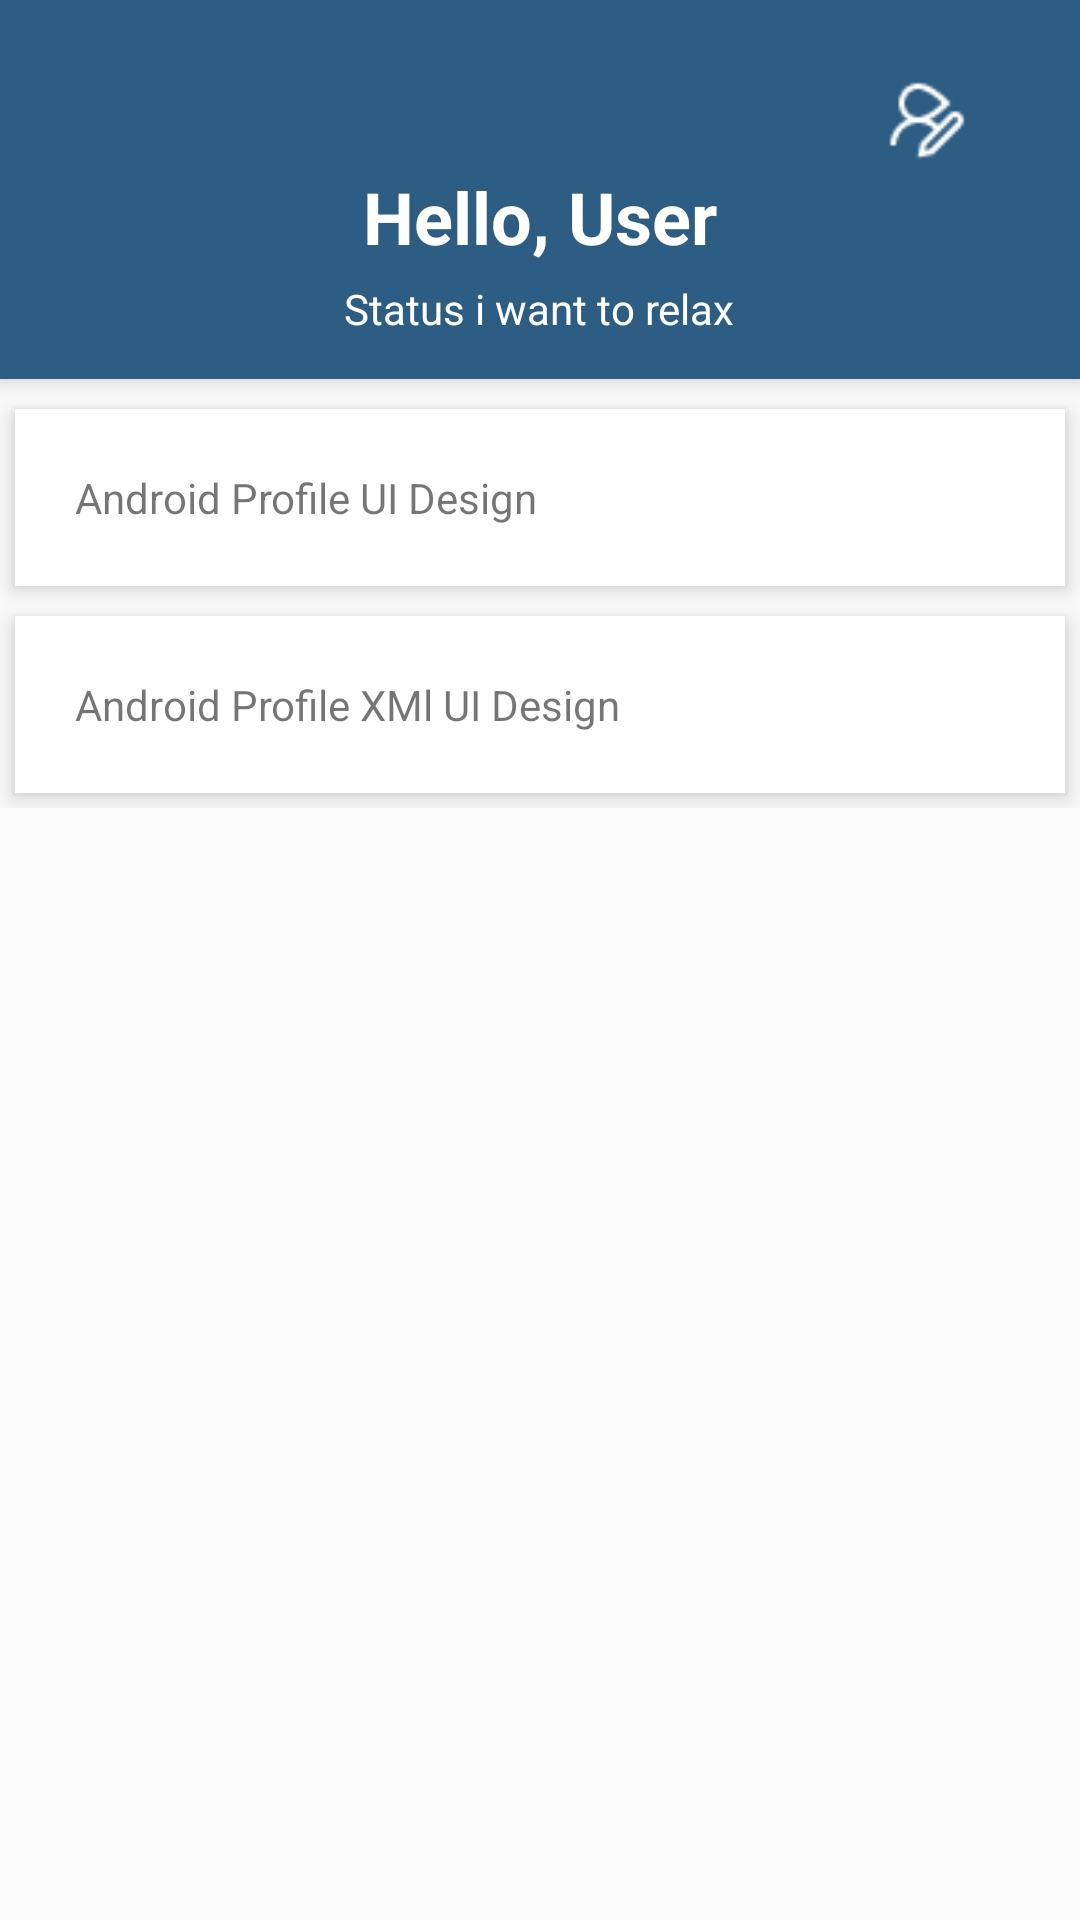

Named icons in this screenshot (1080 × 1920) and their centers, (x=x, y=y):
user edit: (x=927, y=120)
